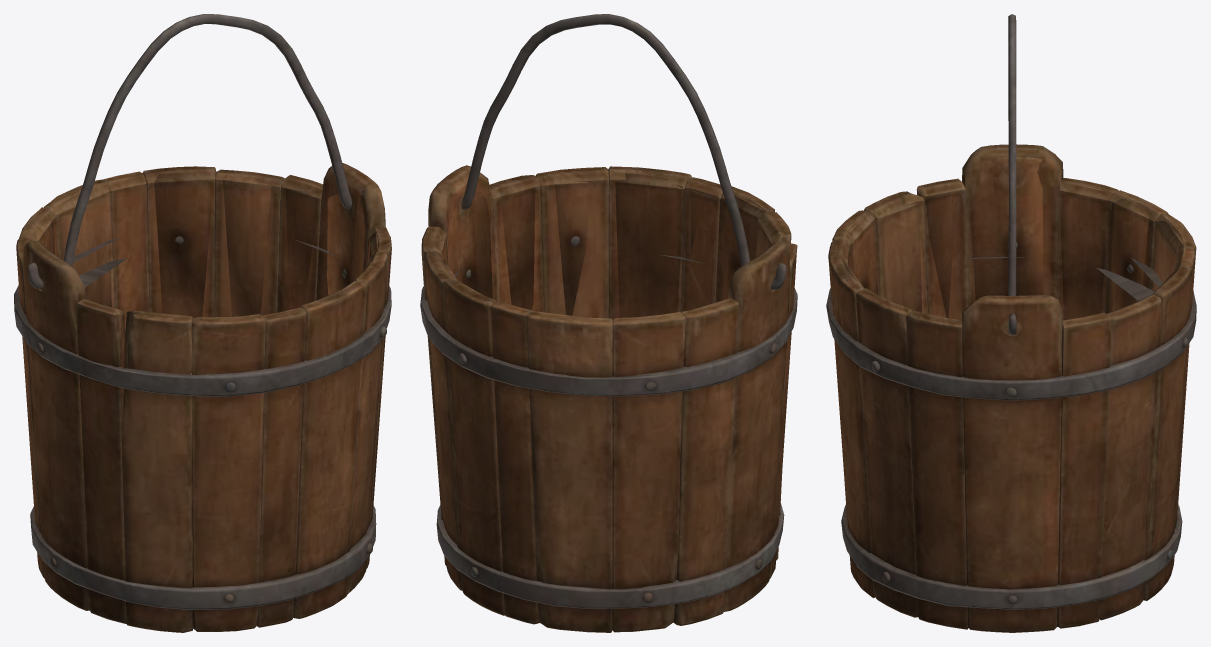
File: wooden_bucket_01.glb
3 views of the same model, side by side, from view 1: azimuth 30°, elevation 25°; view 2: azimuth 150°, elevation 25°; view 3: azimuth 270°, elevation 25° (orthographic).
Parts seen in each view (by area): view 1: wooden_bucket_01, wooden_bucket_01_lo; view 2: wooden_bucket_01, wooden_bucket_01_lo; view 3: wooden_bucket_01, wooden_bucket_01_lo.
Part boxes in pixels (x1,y1,x2,y2): wooden_bucket_01: (14,14,391,632); wooden_bucket_01_lo: (17,167,390,589); wooden_bucket_01: (420,14,797,632); wooden_bucket_01_lo: (422,172,797,587); wooden_bucket_01: (826,14,1196,632); wooden_bucket_01_lo: (831,150,1193,590).
Size of the model in its own units: 0.367 by 0.5499 by 0.3422.
Materials: 1 (1 with a texture image).
